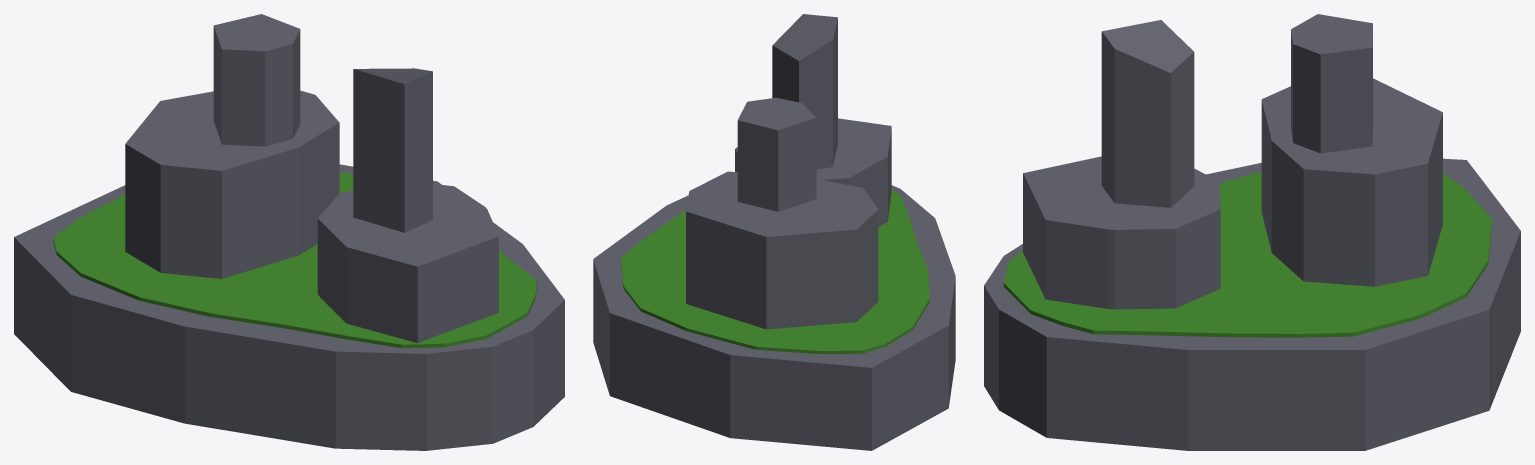
Rendered from Peak2.fbx.
The picture shows the model from 3 angles, left to right: view 1: azimuth 30°, elevation 25°; view 2: azimuth 150°, elevation 25°; view 3: azimuth 270°, elevation 25°; orthographic projection. The views are drawn at different scales.
Visible parts, largest first — view 1: Plane.033; view 2: Plane.033; view 3: Plane.033.
Part boxes in pixels (x1,y1,x2,y2): Plane.033: (14, 14, 564, 450); Plane.033: (593, 14, 955, 450); Plane.033: (984, 14, 1520, 450).
Size of the model in its own units: 75.85 by 60.39 by 86.72.
